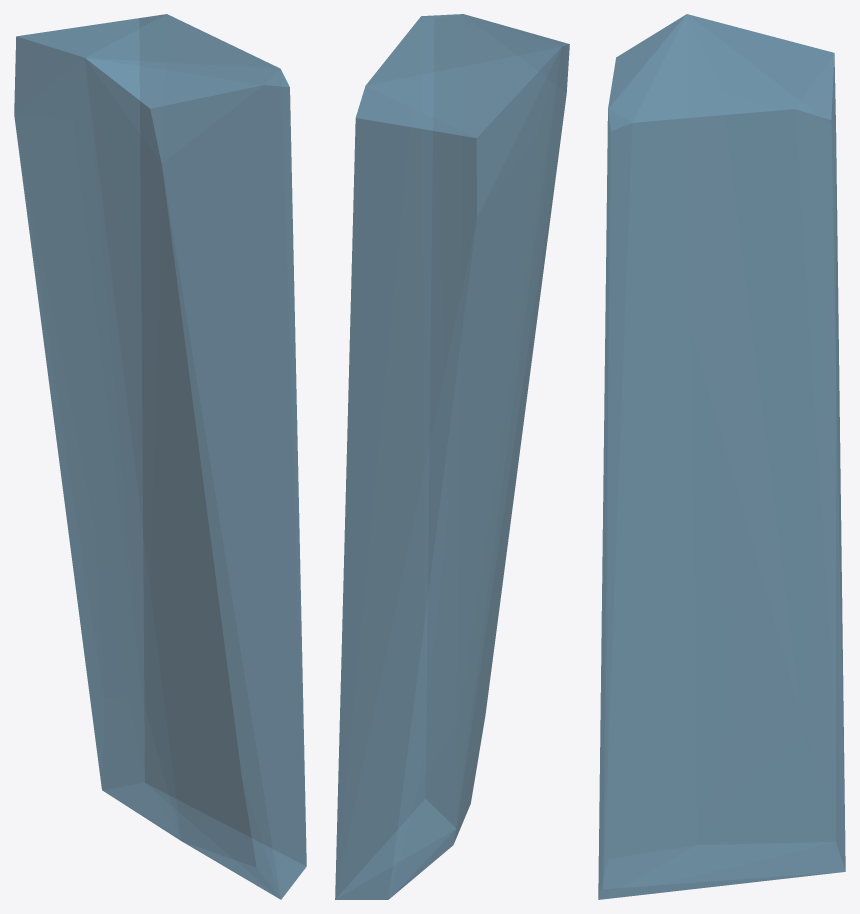
3 views of the same model, side by side, from view 1: azimuth 30°, elevation 25°; view 2: azimuth 150°, elevation 25°; view 3: azimuth 270°, elevation 25° (orthographic). The views are drawn at different scales.
Visible parts, largest first — view 1: Shape_IndexedFaceSet.029_Shape_IndexedFaceSet.10854; view 2: Shape_IndexedFaceSet.029_Shape_IndexedFaceSet.10854; view 3: Shape_IndexedFaceSet.029_Shape_IndexedFaceSet.10854.
Part boxes in pixels (box(x1,y1,x2,y2)): Shape_IndexedFaceSet.029_Shape_IndexedFaceSet.10854: box(14, 14, 306, 899); Shape_IndexedFaceSet.029_Shape_IndexedFaceSet.10854: box(335, 14, 569, 899); Shape_IndexedFaceSet.029_Shape_IndexedFaceSet.10854: box(598, 14, 845, 899).
Bounding box in the file's own units: 0.232 × 1.05 × 0.2887.
